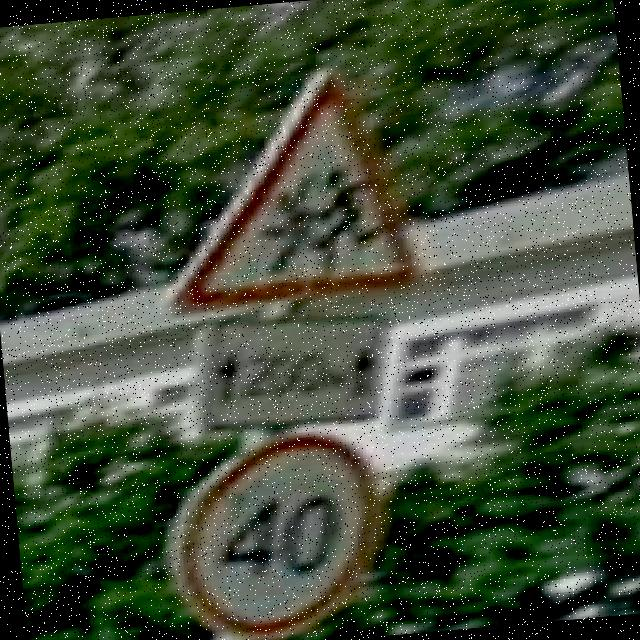Ograniczenie predkosci do 40: (169, 425, 394, 640)
